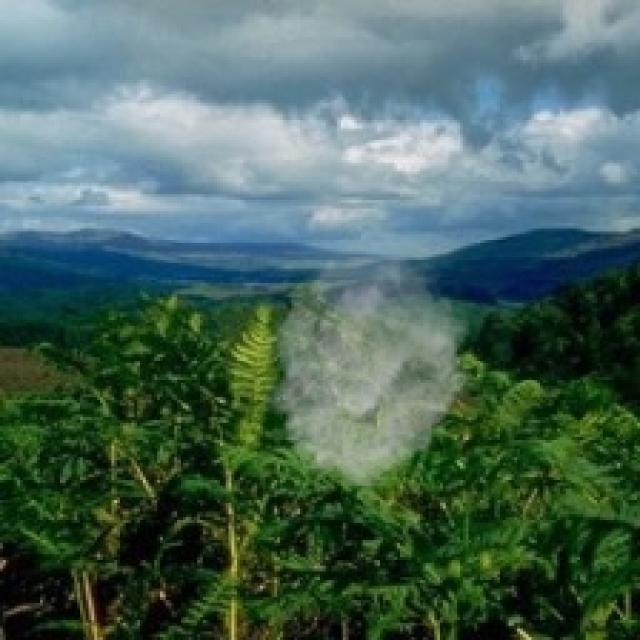Smoke: (260, 257, 477, 486)
